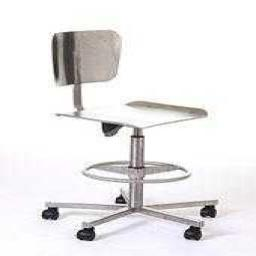Chair: (43, 31, 218, 241)
